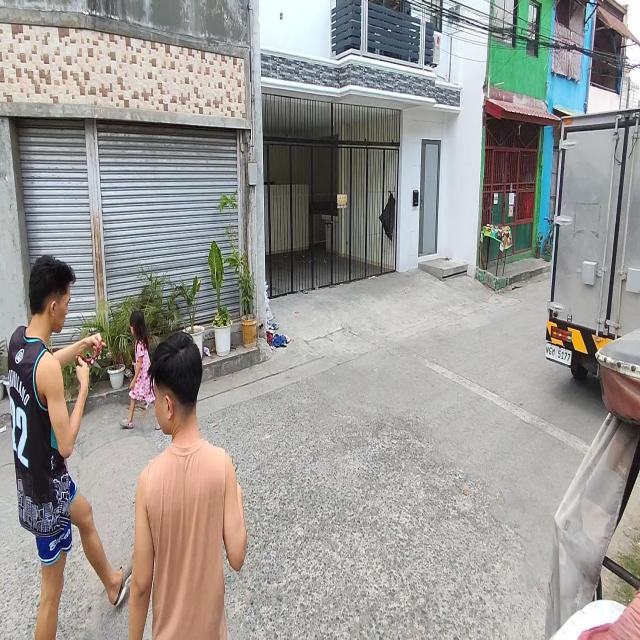scissor: (77, 339, 102, 371)
